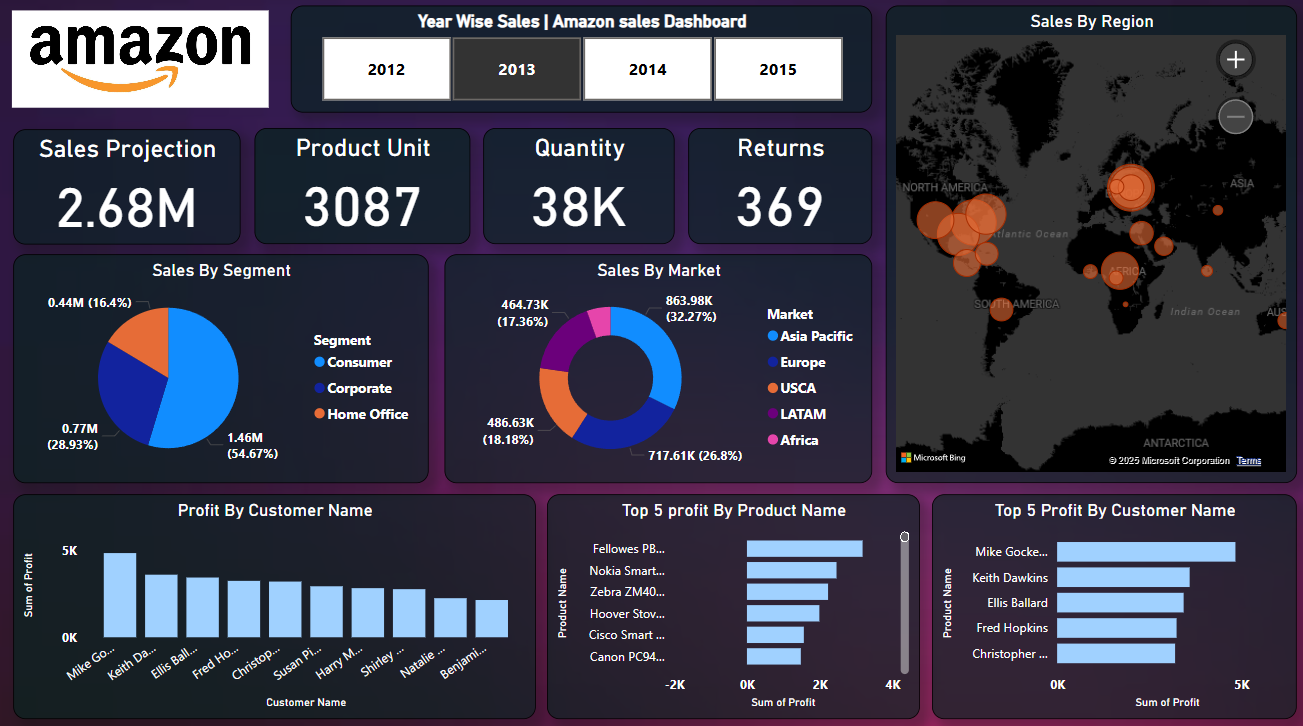

This screenshot's page, from the dashboard's own definition file:
{"tool":"powerbi","page":{"name":"Page 1","canvas":[1280,720],"ordinal":0},"visuals":[{"type":"slicer","title":"Year Wise Sales | Amazon sales Dashboard","fields":{"Values":["Orders.year"]},"box":[287.5,12.5,568.8,105],"z":0},{"type":"image","box":[10,12.5,261.2,105],"z":1000},{"type":"card","title":"Sales Projection ","fields":{"Values":["Orders.Sales"]},"box":[16.2,133.8,222.5,112.5],"z":2000},{"type":"card","title":"Product Unit  ","fields":{"Values":["Orders.Product Name"]},"box":[251.7,132.5,211.2,113.8],"z":3000},{"type":"card","title":"Quantity","fields":{"Values":["Orders.Quantity"]},"box":[475.8,132.5,187.5,113.8],"z":4000},{"type":"card","title":"Returns","fields":{"Values":["Orders.Ship Date"]},"box":[676.2,132.5,180,113.8],"z":5000},{"type":"pieChart","title":"Sales By Segment ","fields":{"Category":["Orders.Segment"],"Y":["Orders.Sales"]},"box":[16.5,255.2,406.2,223.7],"z":6000},{"type":"donutChart","title":"Sales By Market","fields":{"Y":["Orders.Sales"],"Category":["Orders.Market"]},"box":[437.7,255.2,418.5,223.7],"z":7000},{"type":"columnChart","title":"Profit By Customer Name ","fields":{"Y":["Orders.Profit"],"Category":["Orders.Customer Name"]},"box":[15.9,490.4,511.1,220.1],"z":8000},{"type":"clusteredBarChart","title":"Top 5 profit By Product Name ","fields":{"Category":["Orders.Product Name"],"Y":["Orders.Profit"]},"box":[538,490.4,364.4,220.1],"z":9000},{"type":"clusteredBarChart","title":"Top 5 Profit By Customer Name ","fields":{"Category":["Orders.Customer Name"],"Y":["Orders.Profit"]},"box":[914.7,490.4,357.1,220.1],"z":10000},{"type":"map","title":"Sales By Region  ","fields":{"Size":["Orders.Profit"],"Category":["Orders.Region"]},"box":[869.4,12.2,402.3,467.1],"z":11000}]}

Visuals, with their boxes in screenshot pixels (x1, y1, x2, y2), scaled from the page's 1280x720 canvas onto the 1303x726 screenshot:
"Year Wise Sales | Amazon sales Dashboard" slicer: <box>293,13,872,118</box>
image: <box>10,13,276,118</box>
"Sales Projection " card: <box>16,135,243,248</box>
"Product Unit  " card: <box>256,134,471,248</box>
"Quantity" card: <box>484,134,675,248</box>
"Returns" card: <box>688,134,872,248</box>
"Sales By Segment " pieChart: <box>17,257,430,483</box>
"Sales By Market" donutChart: <box>446,257,872,483</box>
"Profit By Customer Name " columnChart: <box>16,494,536,716</box>
"Top 5 profit By Product Name " clusteredBarChart: <box>548,494,919,716</box>
"Top 5 Profit By Customer Name " clusteredBarChart: <box>931,494,1295,716</box>
"Sales By Region  " map: <box>885,12,1295,483</box>
